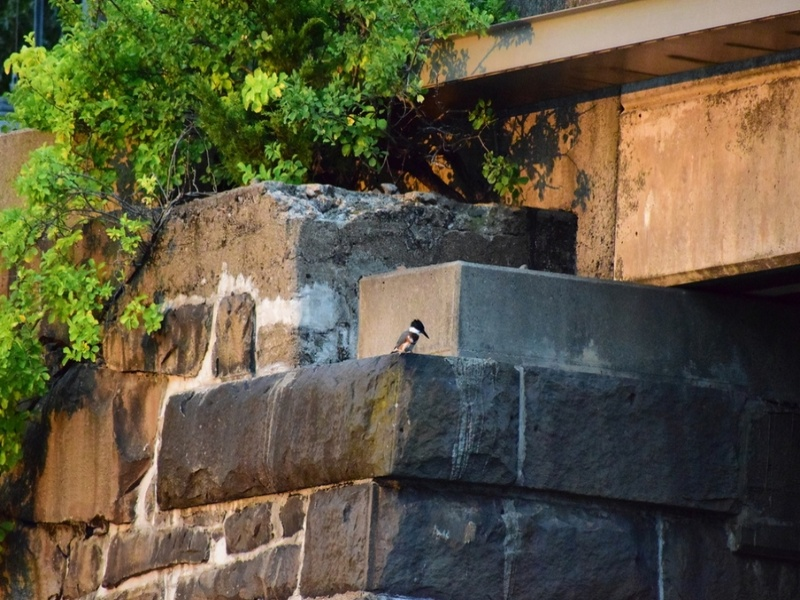kingfisher: (390, 318, 427, 359)
